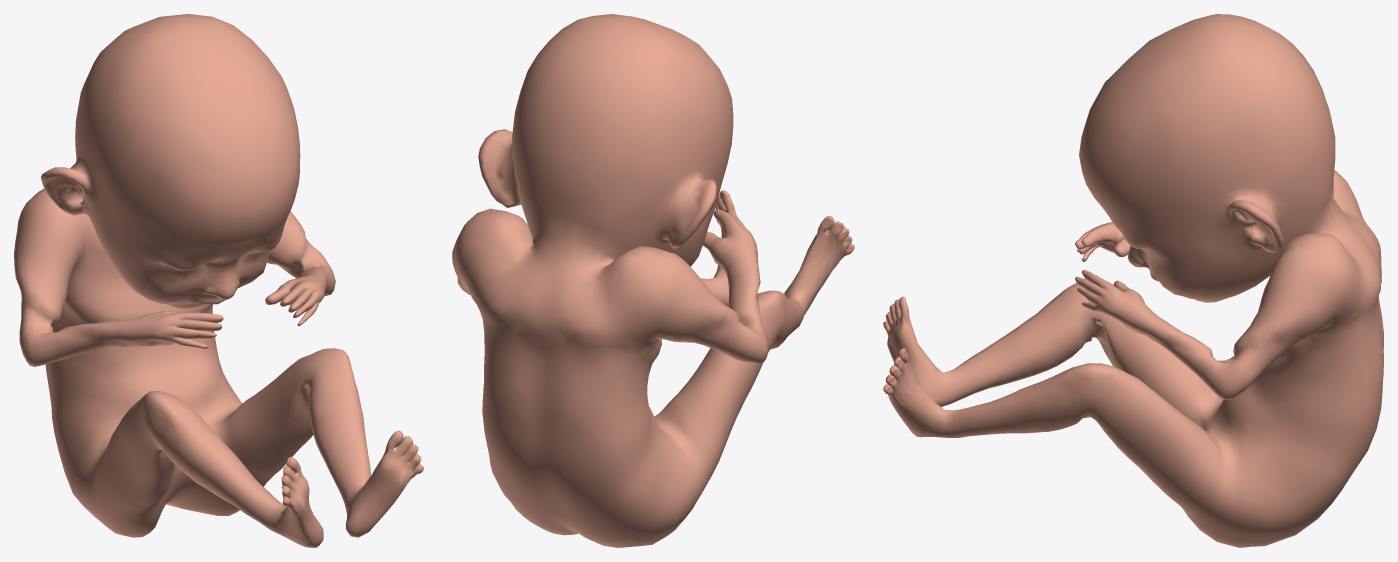
3 views of the same model, side by side, from view 1: azimuth 30°, elevation 25°; view 2: azimuth 150°, elevation 25°; view 3: azimuth 270°, elevation 25° (orthographic).
Parts seen in each view (by area): view 1: Baby; view 2: Baby; view 3: Baby.
Part boxes in pixels (x1,y1,x2,y2): Baby: (14, 14, 423, 547); Baby: (452, 14, 854, 547); Baby: (883, 14, 1383, 547).
Bounding box in the file's own units: 0.152 × 0.2391 × 0.2168.
Materials: 1 (1 with a texture image).
